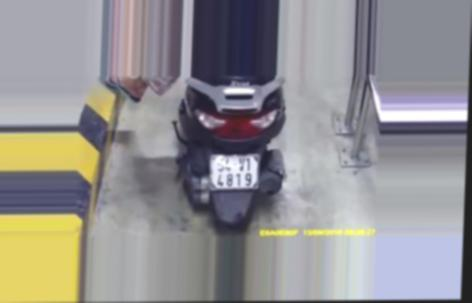License_Plate: (202, 150, 264, 194)
